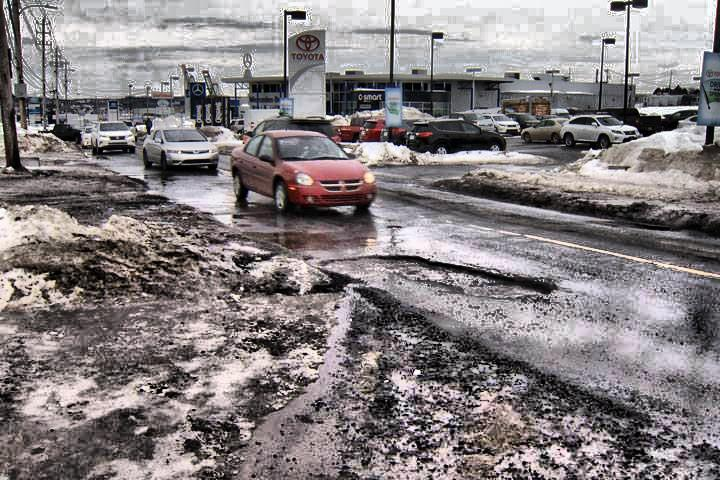pothole: (313, 251, 552, 307)
